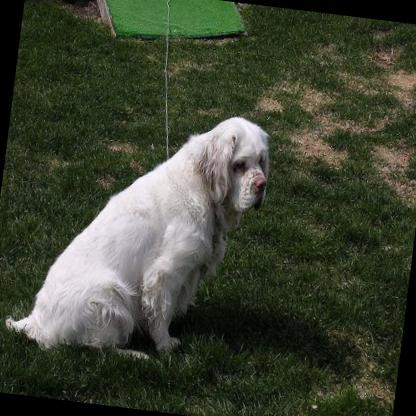clumber: (2, 90, 274, 376)
